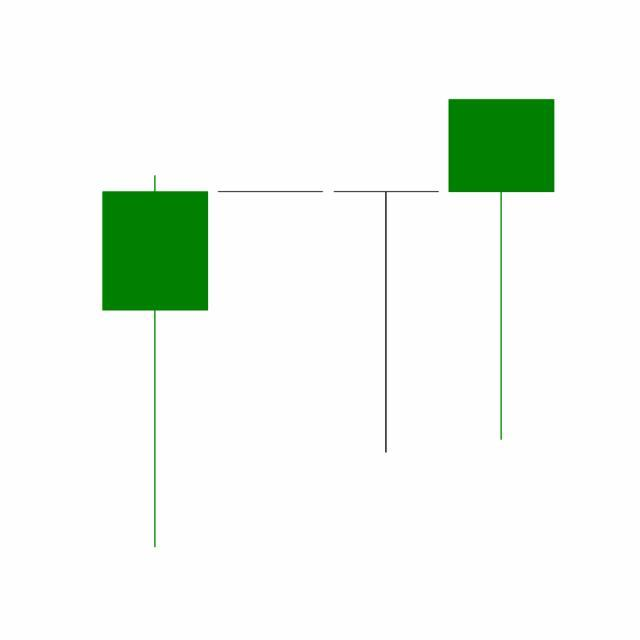Hanging Man: (444, 97, 560, 445)
